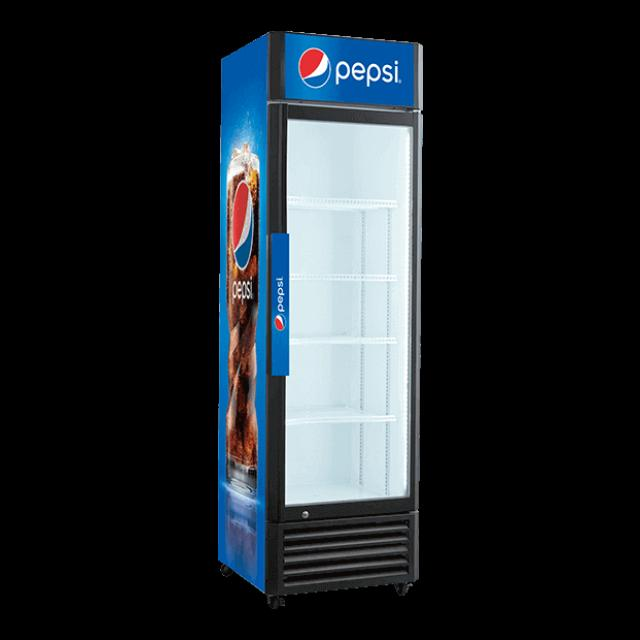Cooling-Display: (219, 26, 421, 624)
